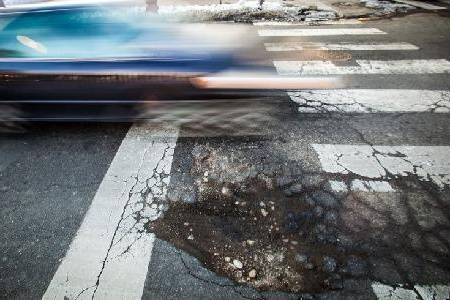pothole: (149, 177, 340, 297)
